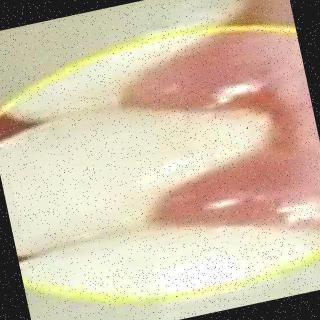Gum Swelling: (131, 31, 320, 238)
